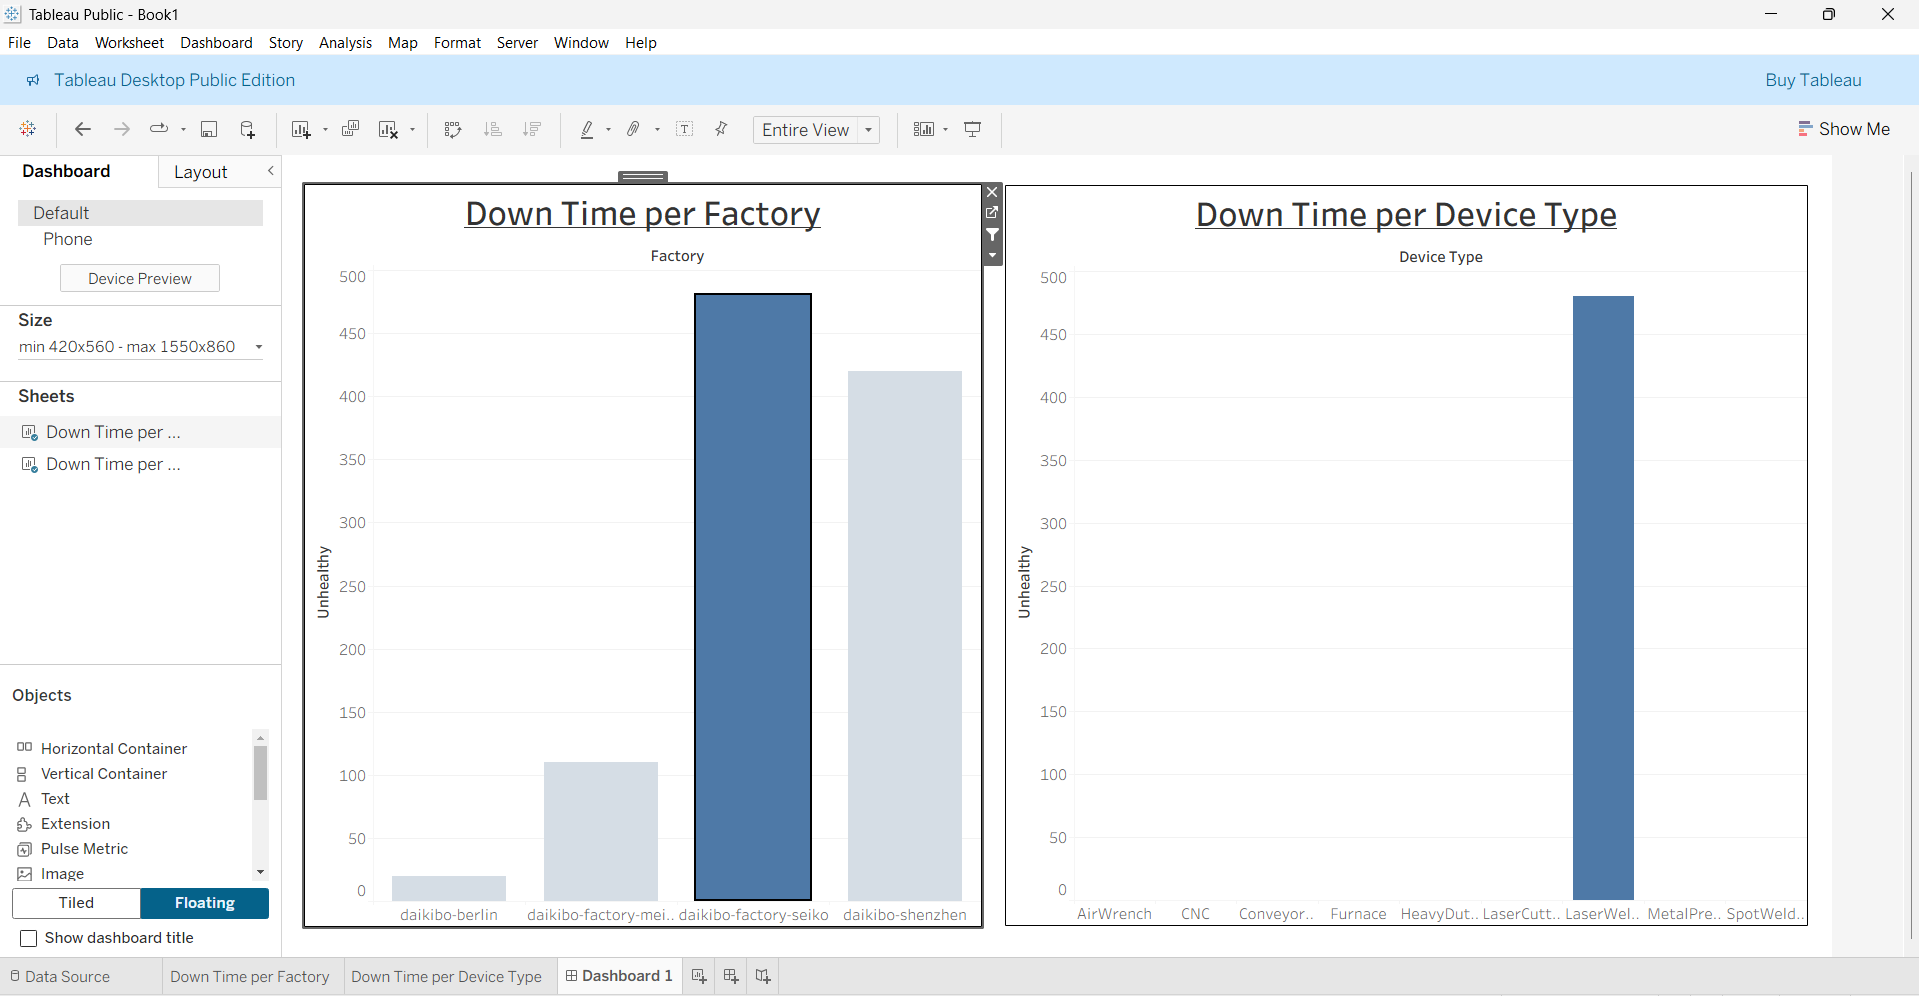

The dashboard page shown, as its layout file describes it:
{"tool":"tableau","page":{"name":"Dashboard 1","canvas":[1000,1000],"units":"permille","ordinal":0},"visuals":[{"type":"worksheet","title":"Down Time per Factory","mark":"Automatic","rows":["Calculation_0272181720784896"],"cols":["factory"],"box":[14.2,36.2,437.4,926.4]},{"type":"worksheet","title":"Down Time per Device Type","mark":"Automatic","rows":["Calculation_0272181720784896"],"cols":["deviceType"],"box":[466.4,37.4,518.1,923.9]}]}

Visuals, with their boxes on the dashboard's canvas, which has no fixed pixel size, in thousandths of its width and height (x1, y1, x2, y2). These are canvas units, not pixel positions in the 1919x996 screenshot, which may show the page scaled, cropped or inside an application window:
"Down Time per Factory" worksheet: locate(14, 36, 452, 963)
"Down Time per Device Type" worksheet: locate(466, 37, 984, 961)
